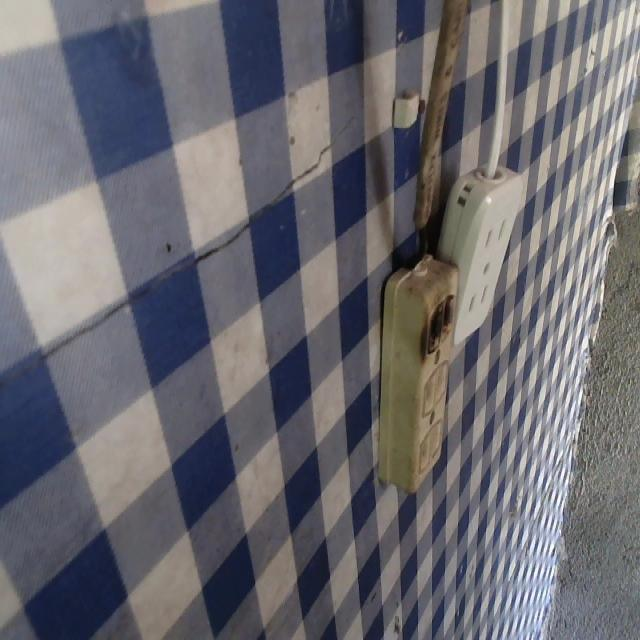-: (418, 292, 460, 355)
